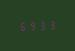nine: (27, 20, 35, 31)
six: (18, 20, 26, 31)
three: (45, 19, 53, 30), (36, 20, 44, 30)
